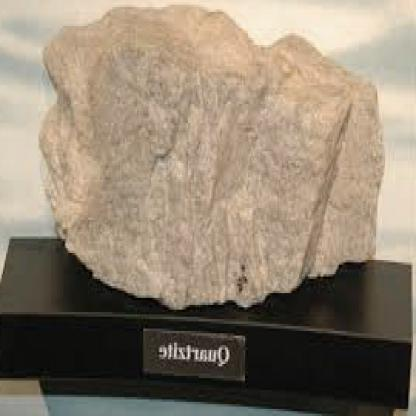Metamorphic_Quartize: (23, 0, 391, 293)
